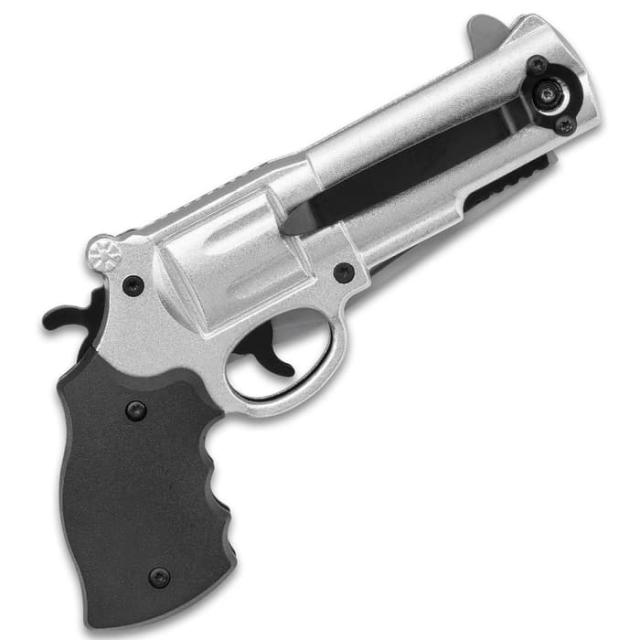HandGun: (41, 13, 605, 633)
